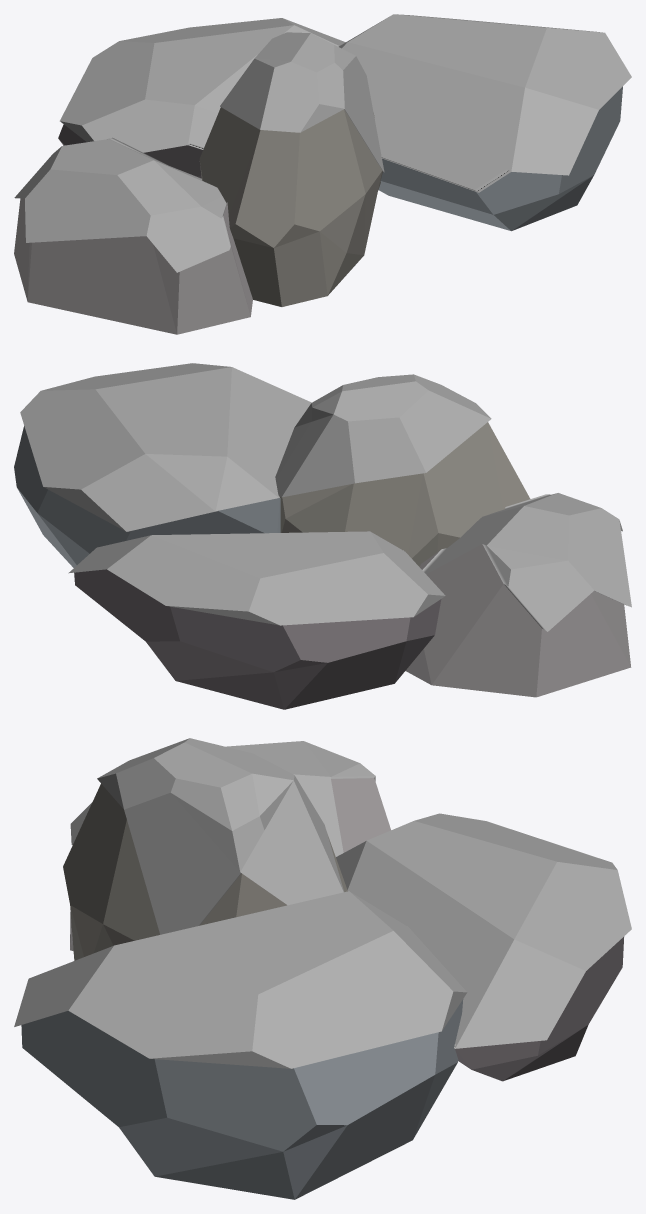
Rendered from Rocks_Round_m_03.fbx.
3 renders of one model, top to bottom at view 1: azimuth 30°, elevation 25°; view 2: azimuth 150°, elevation 25°; view 3: azimuth 270°, elevation 25°, orthographic. The views are drawn at different scales.
Parts seen in each view (by area): view 1: Rocks_Round_m_03; view 2: Rocks_Round_m_03; view 3: Rocks_Round_m_03.
Boxes of the visible parts, <box> form: Rocks_Round_m_03: <box>14,14,631,334</box>; Rocks_Round_m_03: <box>14,363,631,709</box>; Rocks_Round_m_03: <box>14,738,631,1199</box>.
Bounding box in the file's own units: 231 × 76.72 × 164.
